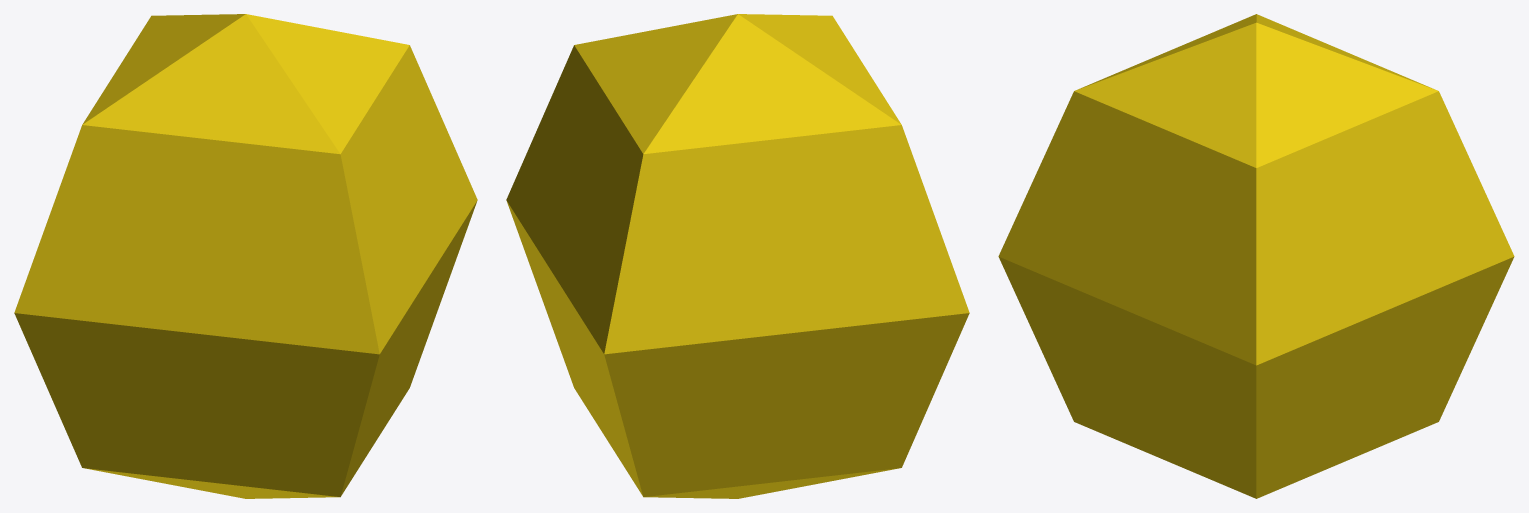
Rendered from beehive.fbx.
3 renders of one model, left to right at view 1: azimuth 30°, elevation 25°; view 2: azimuth 150°, elevation 25°; view 3: azimuth 270°, elevation 25°, orthographic. The views are drawn at different scales.
Parts seen in each view (by area): view 1: Sphere; view 2: Sphere; view 3: Sphere.
Part boxes in pixels (x1=…): Sphere: x1=14, y1=14, x2=477, y2=498; Sphere: x1=506, y1=14, x2=969, y2=498; Sphere: x1=998, y1=14, x2=1514, y2=498.
Bounding box in the file's own units: 140 × 140 × 140.
